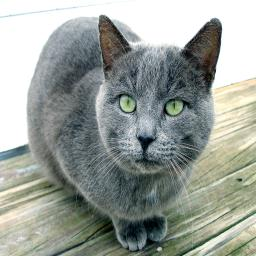catnose: (136, 134, 154, 151)
